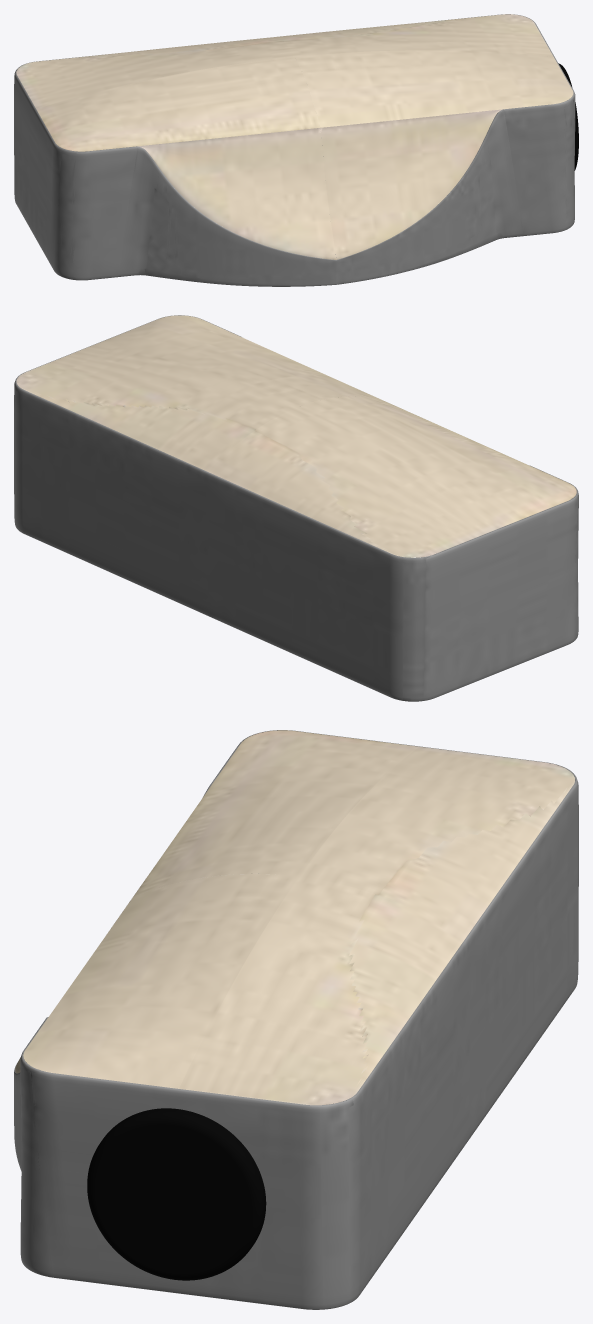
Rendered from DVE lesson 8 somna.glb.
3 renders of one model, top to bottom at view 1: azimuth 30°, elevation 25°; view 2: azimuth 150°, elevation 25°; view 3: azimuth 270°, elevation 25°, orthographic. The views are drawn at different scales.
Parts seen in each view (by area): view 1: Top(641B08B9-9D70-4AC1-938E-493889B7C0AA), pillow(782466B1-2A07-4453-A46F-D09751161DB1); view 2: pillow(782466B1-2A07-4453-A46F-D09751161DB1), Top(641B08B9-9D70-4AC1-938E-493889B7C0AA); view 3: Top(641B08B9-9D70-4AC1-938E-493889B7C0AA), pillow(782466B1-2A07-4453-A46F-D09751161DB1), control_panel(6823DB9A-46BC-4029-BE68-69755E855DA6), control_panel(60ECB891-C6FB-4B83-8C67-77C655A6AC93), control_panel(85DCC897-BC93-4EF4-95DA-F0BC0E29CC06).
Boxes of the visible parts, x1,y1,x2,y2 form: Top(641B08B9-9D70-4AC1-938E-493889B7C0AA): (16, 14, 573, 259); pillow(782466B1-2A07-4453-A46F-D09751161DB1): (14, 14, 575, 286); pillow(782466B1-2A07-4453-A46F-D09751161DB1): (14, 315, 578, 701); Top(641B08B9-9D70-4AC1-938E-493889B7C0AA): (16, 315, 576, 557); Top(641B08B9-9D70-4AC1-938E-493889B7C0AA): (15, 730, 574, 1105); pillow(782466B1-2A07-4453-A46F-D09751161DB1): (14, 730, 578, 1309); control_panel(6823DB9A-46BC-4029-BE68-69755E855DA6): (95, 1125, 250, 1273); control_panel(60ECB891-C6FB-4B83-8C67-77C655A6AC93): (87, 1111, 264, 1280); control_panel(85DCC897-BC93-4EF4-95DA-F0BC0E29CC06): (103, 1108, 266, 1243).
Bounding box in the file's own units: 0.4135 × 0.1251 × 0.2607.
7 materials, 3 textured.
